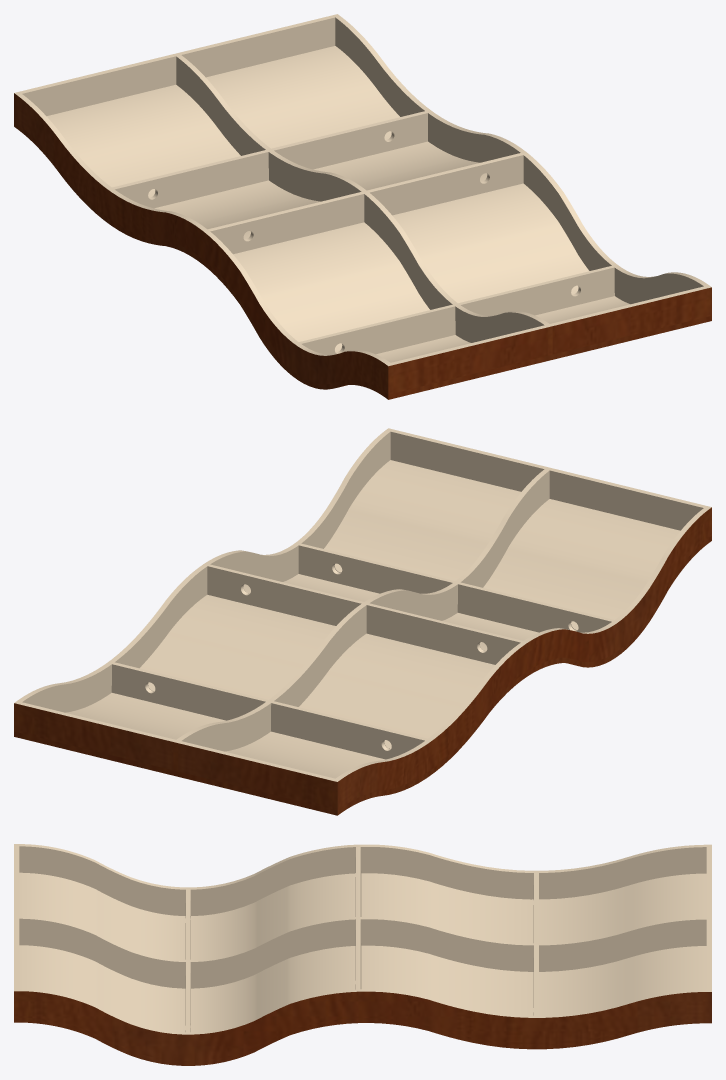
The model's file is WaveW FlushFrame.glb.
3 views of the same model, one above another, from view 1: azimuth 30°, elevation 25°; view 2: azimuth 150°, elevation 25°; view 3: azimuth 270°, elevation 25° (orthographic). The views are drawn at different scales.
Parts seen in each view (by area): view 1: Component#1 (×2), 5813, Component#2; view 2: Component#1 (×2), 5813, Component#2; view 3: 5813, Component#1 (×2), Component#2.
Boxes of the visible parts, <box> form: Component#1 (×2): <box>14,14,711,394</box>; 5813: <box>14,46,711,399</box>; Component#2: <box>173,53,552,355</box>; Component#1 (×2): <box>14,428,711,810</box>; 5813: <box>14,460,711,815</box>; Component#2: <box>173,467,552,771</box>; 5813: <box>14,872,711,1065</box>; Component#1 (×2): <box>14,844,711,1060</box>; Component#2: <box>14,916,711,988</box>.
Size of the model in its own units: 1.21 by 0.2873 by 2.43.
Materials: 925 (106 with a texture image).
